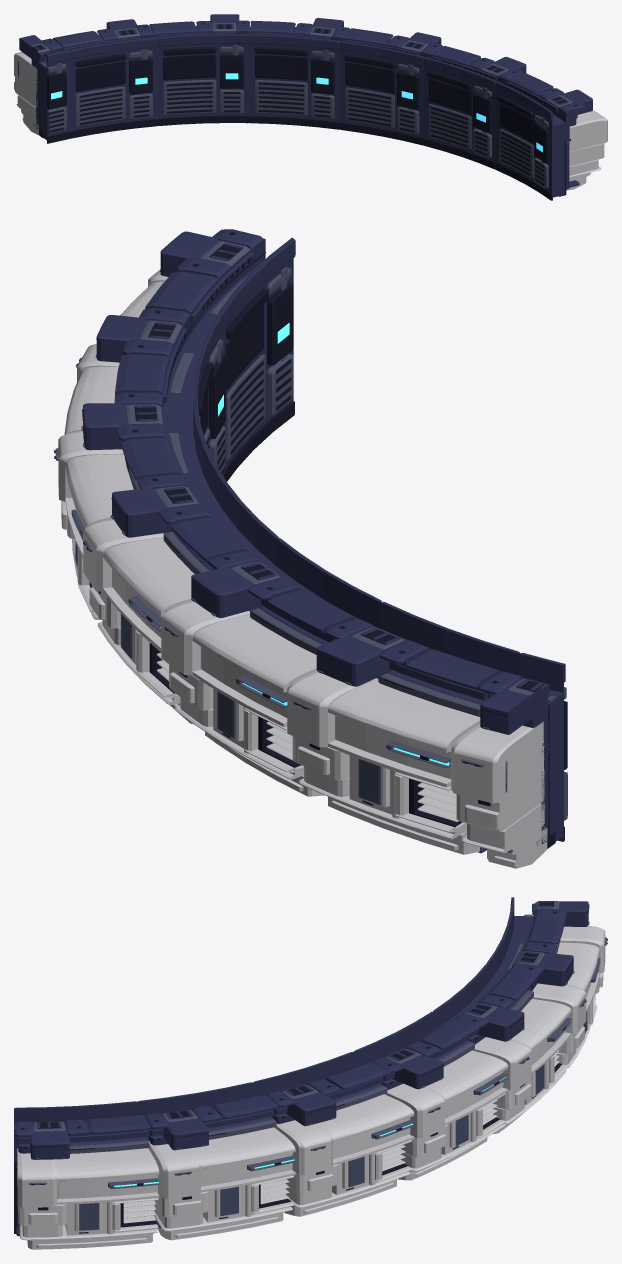
Rendered from hull.arc4.c.glb.
3 renders of one model, top to bottom at view 1: azimuth 30°, elevation 25°; view 2: azimuth 150°, elevation 25°; view 3: azimuth 270°, elevation 25°, orthographic. The views are drawn at different scales.
Visible parts, largest first — view 1: GEO-hull.arc4.c; view 2: GEO-hull.arc4.c; view 3: GEO-hull.arc4.c.
Part boxes in pixels (x1,y1,x2,y2): GEO-hull.arc4.c: (14, 14, 607, 200); GEO-hull.arc4.c: (54, 229, 567, 868); GEO-hull.arc4.c: (14, 897, 607, 1249).
Size of the model in its own units: 4.51 by 1 by 4.51.
